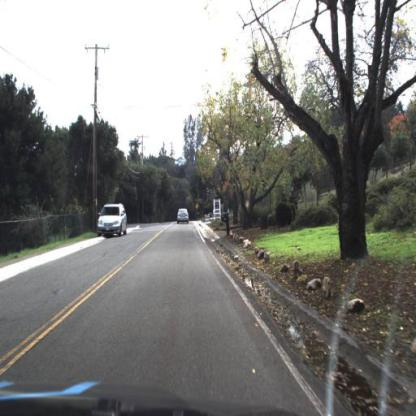car: (93, 196, 133, 243), (175, 206, 192, 229)
